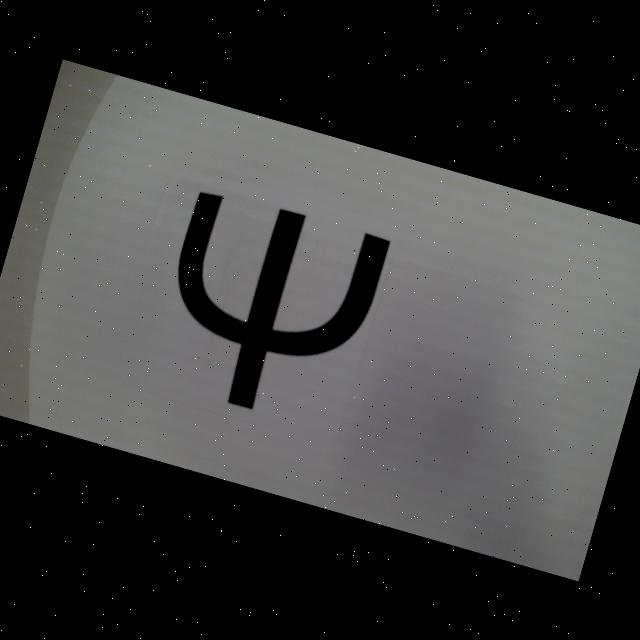PSI: (143, 184, 391, 433)
